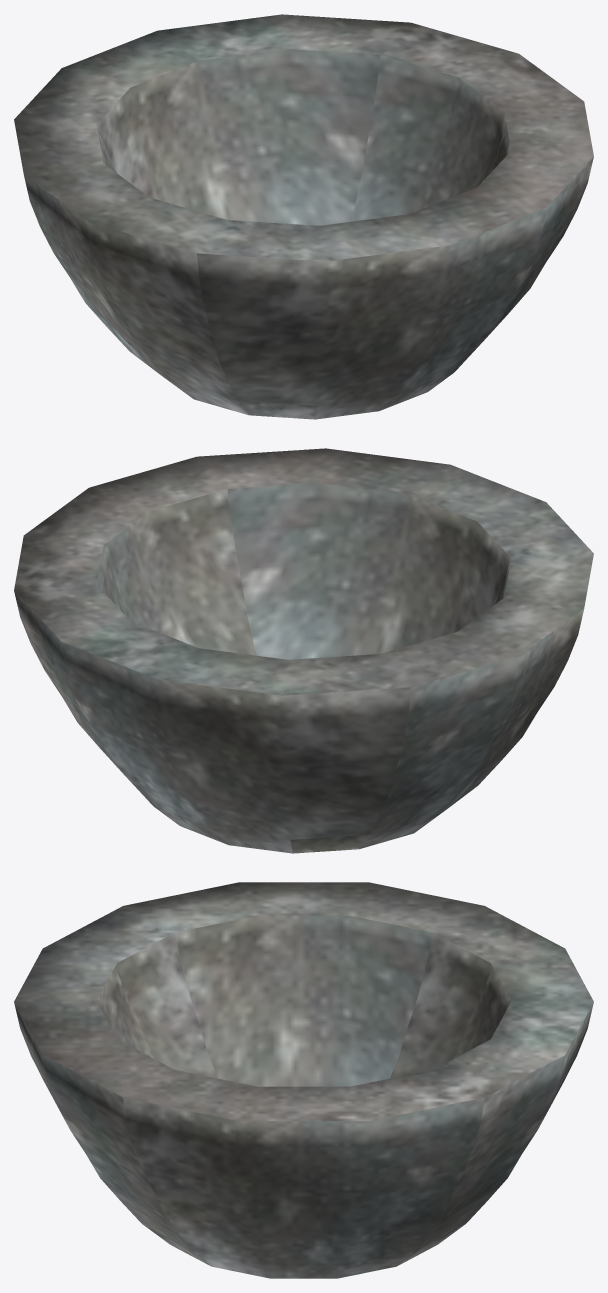
Rendered from mortar.glb.
3 renders of one model, top to bottom at view 1: azimuth 30°, elevation 25°; view 2: azimuth 150°, elevation 25°; view 3: azimuth 270°, elevation 25°, orthographic.
Visible parts, largest first — view 1: Mortar; view 2: Mortar; view 3: Mortar.
Boxes of the visible parts, <box> form: Mortar: <box>14,14,593,419</box>; Mortar: <box>14,448,593,853</box>; Mortar: <box>14,882,593,1278</box>.
Bounding box in the file's own units: 0.2023 × 0.0854 × 0.2075.
1 material, 1 textured.
